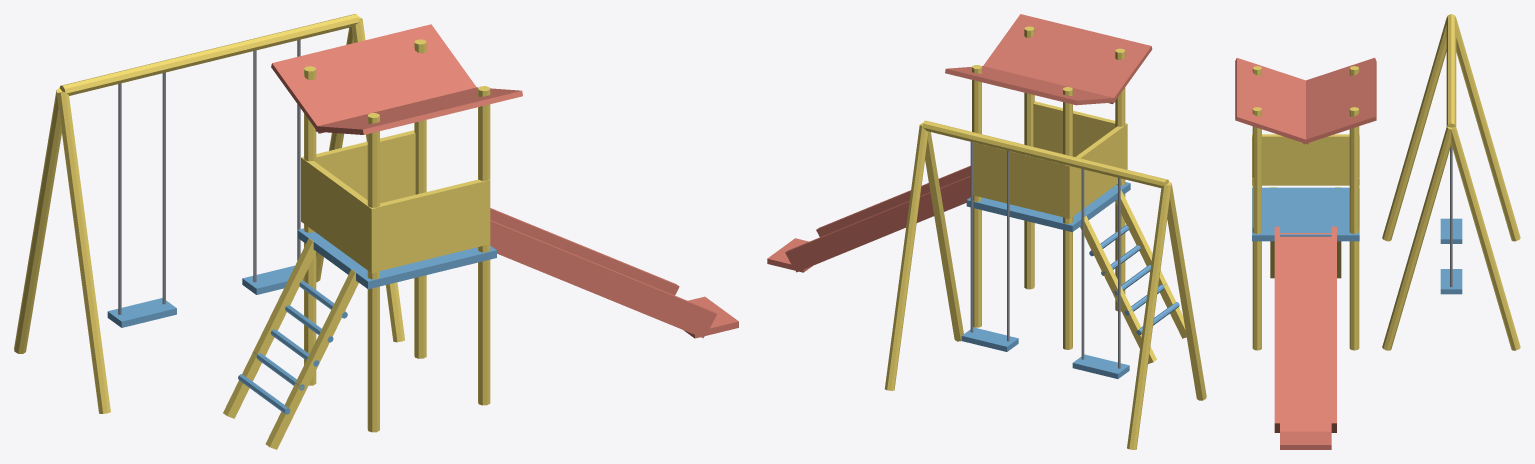
Rendered from park_playground.glb.
3 views of the same model, side by side, from view 1: azimuth 30°, elevation 25°; view 2: azimuth 150°, elevation 25°; view 3: azimuth 270°, elevation 25° (orthographic). The views are drawn at different scales.
Parts seen in each view (by area): view 1: Playground_SteelY, Playground_Slide, Playground_Frame, Playground_SteelD; view 2: Playground_SteelY, Playground_Slide, Playground_Frame, Playground_SteelD; view 3: Playground_Slide, Playground_SteelY, Playground_Frame, Playground_SteelD.
Boxes of the visible parts, x1,y1,x2,y2 form: Playground_SteelY: (14, 14, 490, 449); Playground_Slide: (271, 24, 738, 338); Playground_Frame: (107, 228, 496, 414); Playground_SteelD: (118, 39, 300, 314); Playground_SteelY: (884, 26, 1206, 449); Playground_Slide: (767, 14, 1152, 272); Playground_Frame: (961, 182, 1179, 378); Playground_SteelD: (970, 142, 1120, 368); Playground_Slide: (1235, 57, 1376, 449); Playground_SteelY: (1252, 14, 1520, 350); Playground_Frame: (1252, 187, 1462, 294); Playground_SteelD: (1450, 145, 1452, 287).
Bounding box in the file's own units: 0.4644 × 0.2502 × 0.2648.
